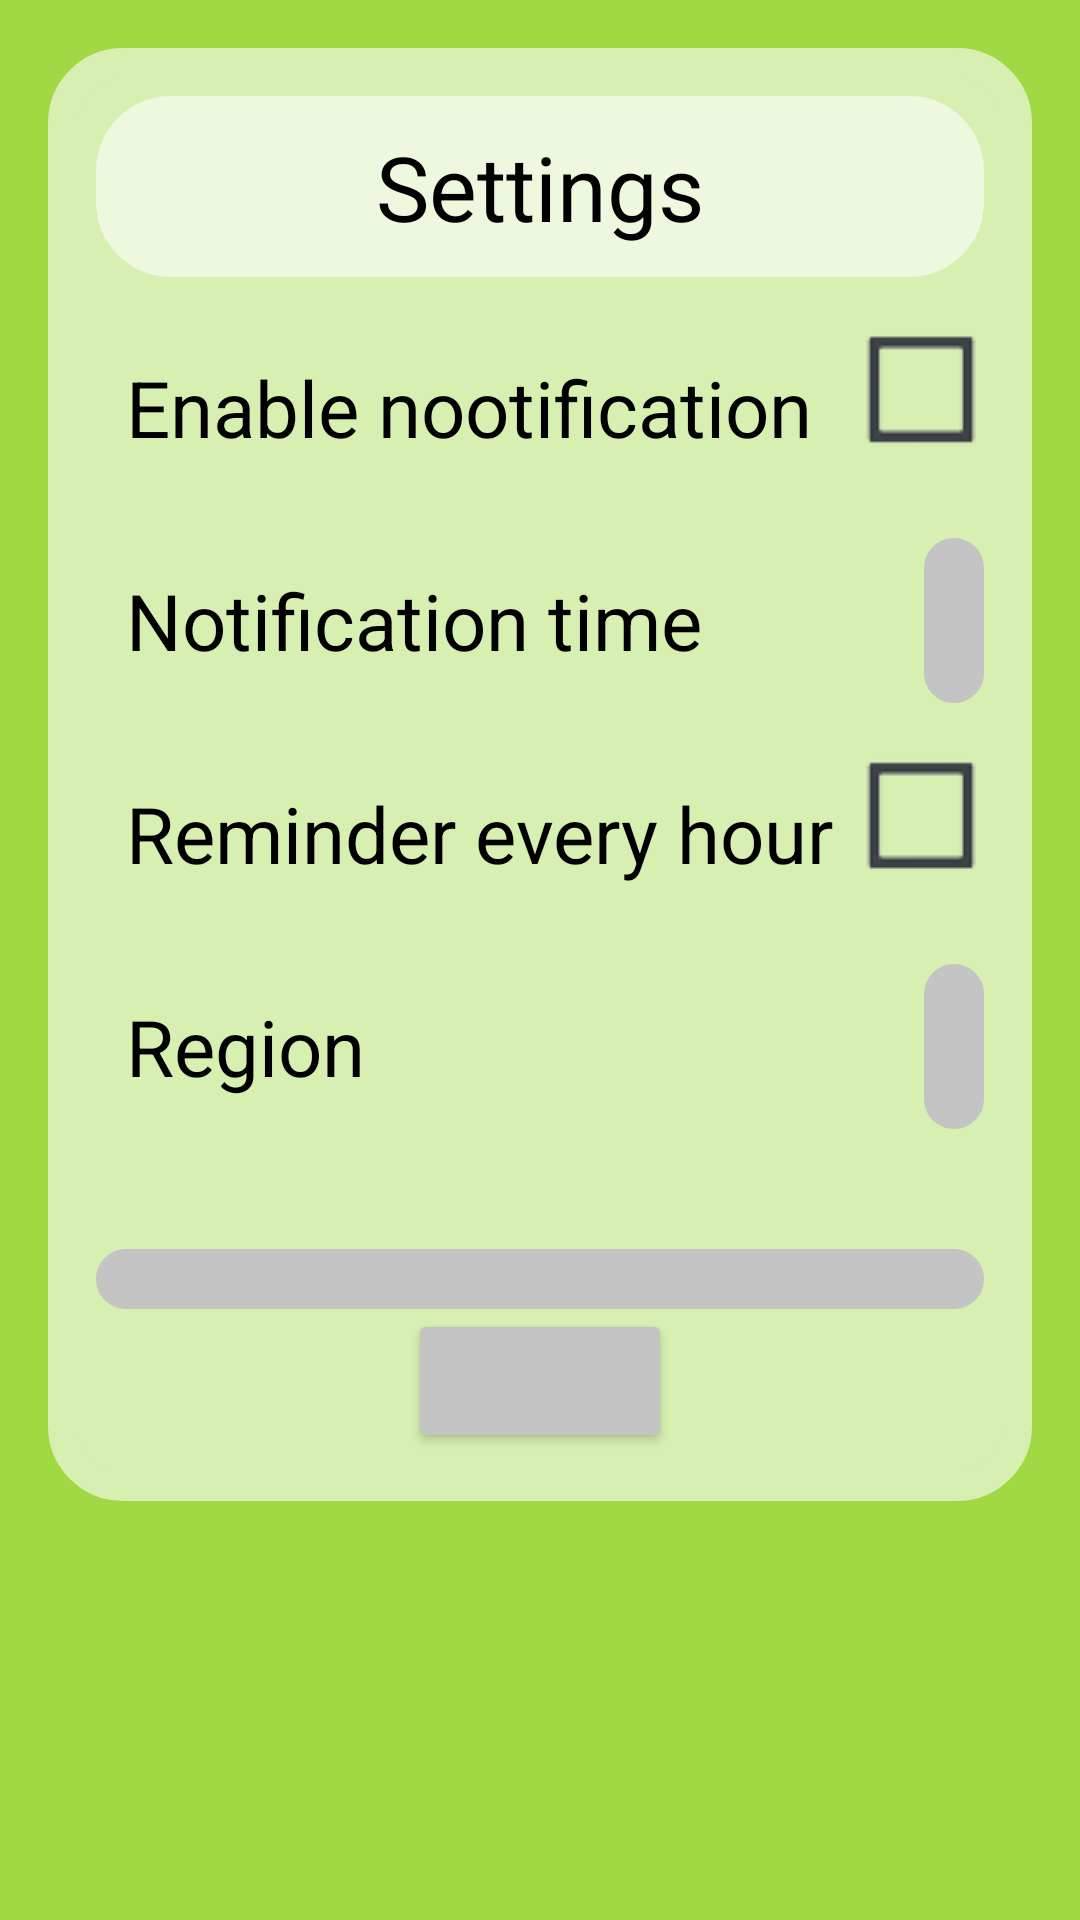

Icons on this 1080px×1920px Android screen, each with its box as (x1, y1, x2, y2):
checkbox view: (867, 336, 975, 443), (867, 762, 975, 869)
